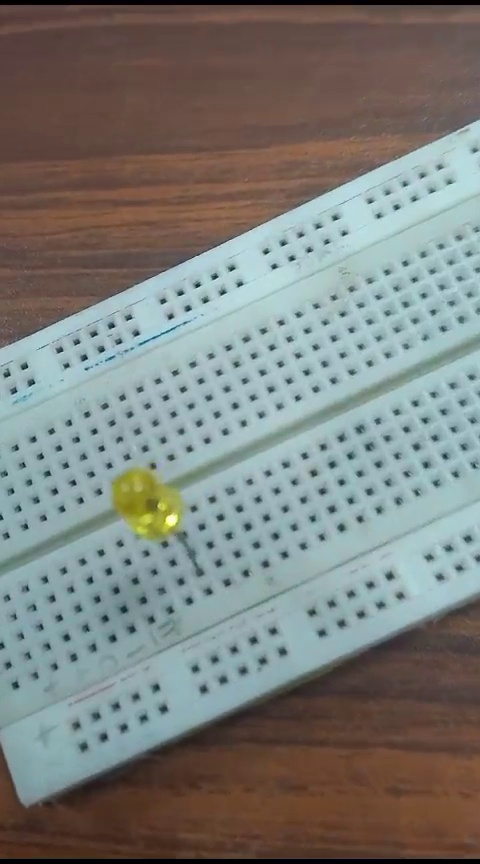LED: (99, 456, 208, 572)
